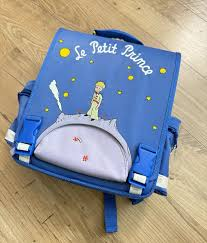bag: (24, 16, 177, 198)
